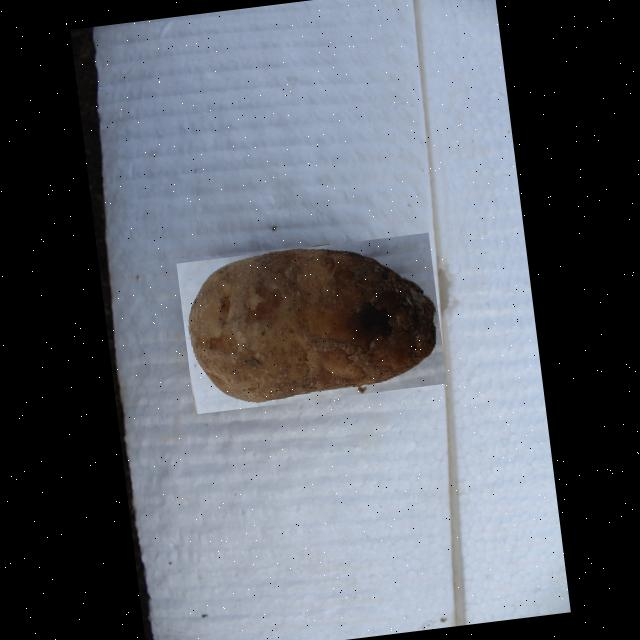Diseased-fungal potato: (176, 231, 447, 413)
